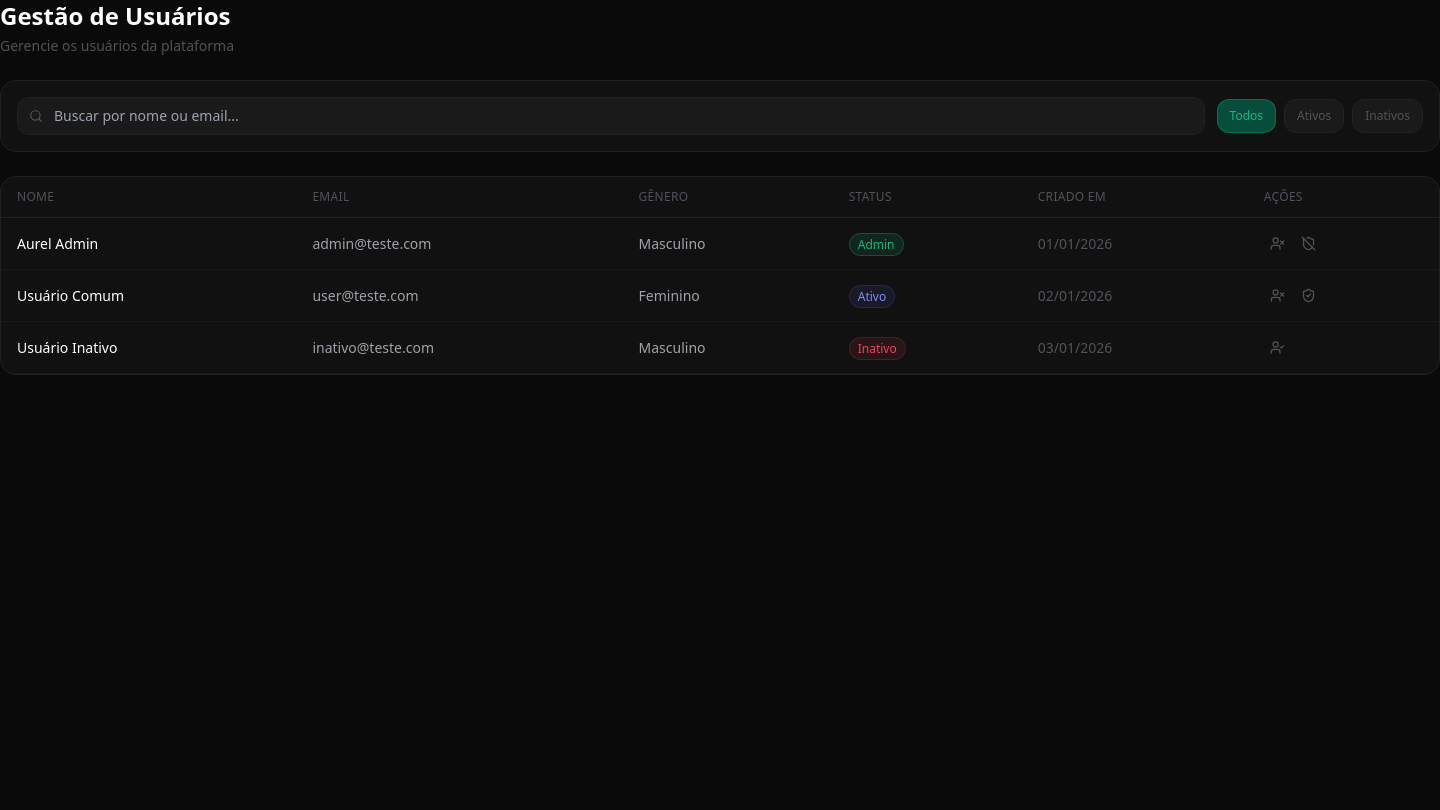
Test: AdminUsersPage › deve abrir modal de confirmação ao clicar em desativar
Click the button titled "Desativar" in the row of "Aurel Admin" at (1277, 244), box [1264,230,1291,257]
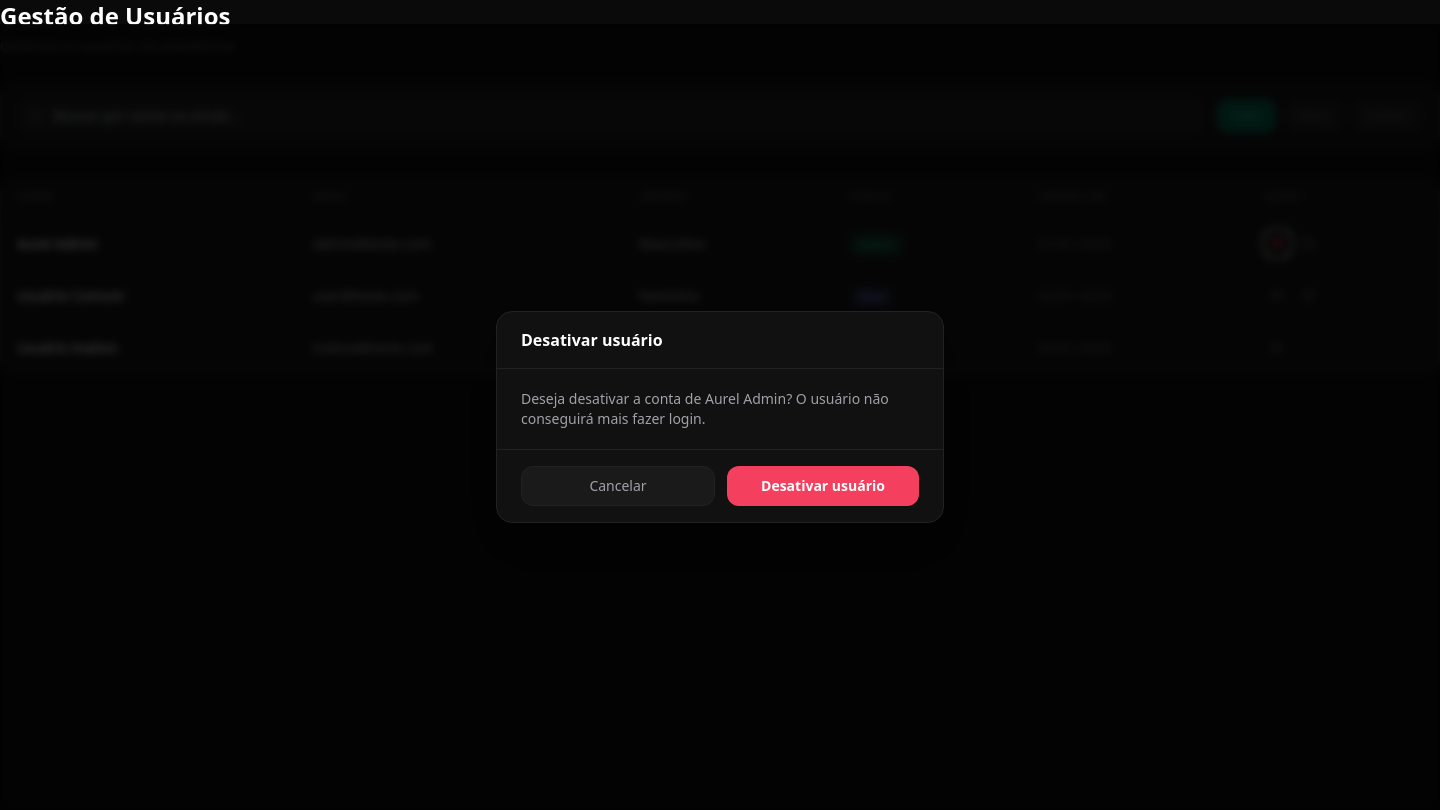
expect the heading "Desativar usuário" is shown: met, box [521,329,663,351]
